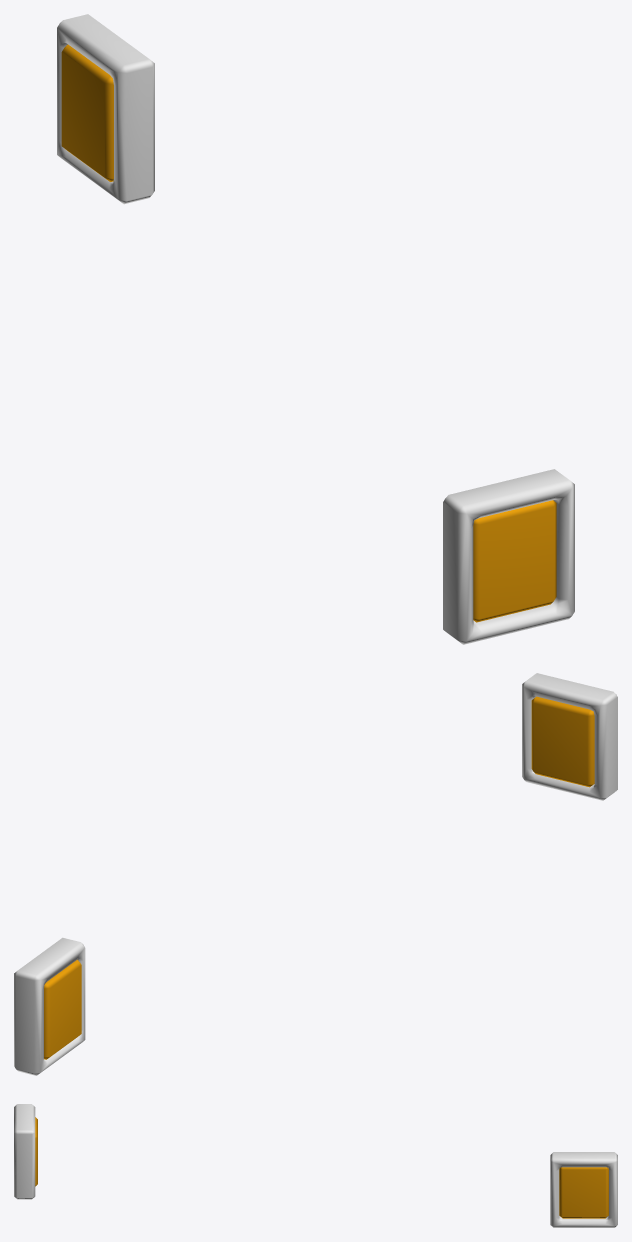
The model's file is SM_Clay_Window_05.fbx.
3 renders of one model, top to bottom at view 1: azimuth 30°, elevation 25°; view 2: azimuth 150°, elevation 25°; view 3: azimuth 270°, elevation 25°, orthographic. The views are drawn at different scales.
Parts seen in each view (by area): view 1: SM_Clay_Window_05; view 2: SM_Clay_Window_05; view 3: SM_Clay_Window_05.
Boxes of the visible parts, x1,y1,x2,y2 form: SM_Clay_Window_05: (57,14,574,644); SM_Clay_Window_05: (14,673,617,1075); SM_Clay_Window_05: (14,1104,617,1227).
Size of the model in its own units: 0.5827 by 0.3321 by 2.61.
